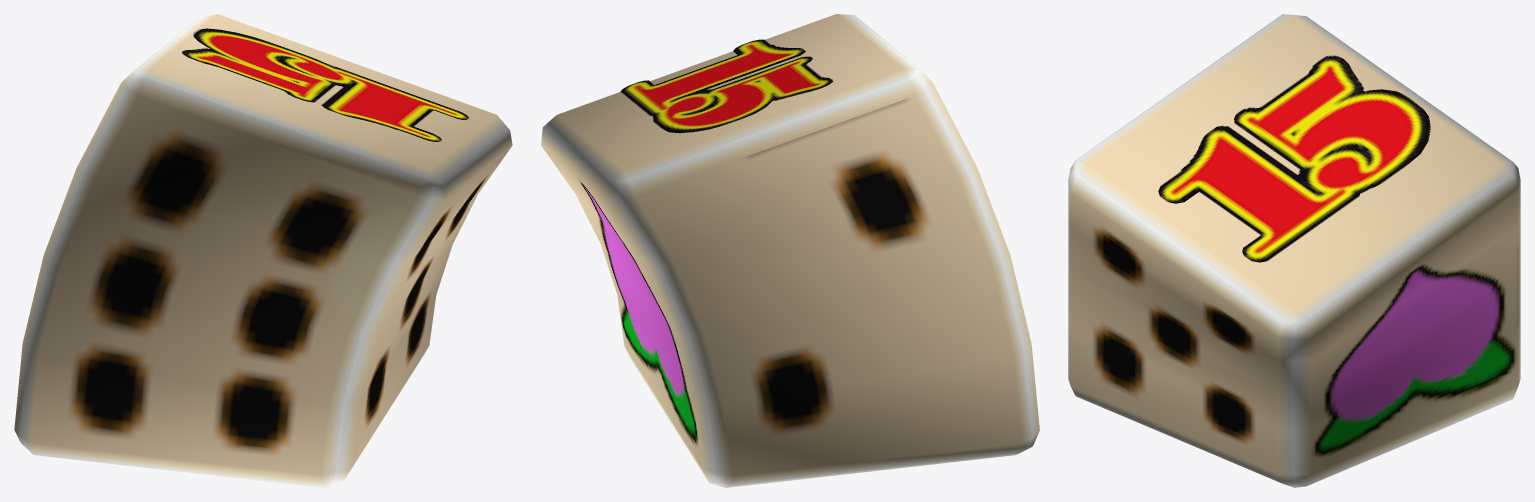
The model's file is sm_02.ico.obj.
3 renders of one model, left to right at view 1: azimuth 30°, elevation 25°; view 2: azimuth 150°, elevation 25°; view 3: azimuth 270°, elevation 25°, orthographic. The views are drawn at different scales.
Size of the model in its own units: 4.01 by 2.83 by 3.32.
Materials: 1 (1 with a texture image).
